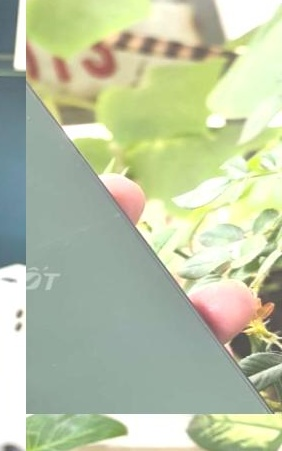scratch: (26, 200, 207, 403)
